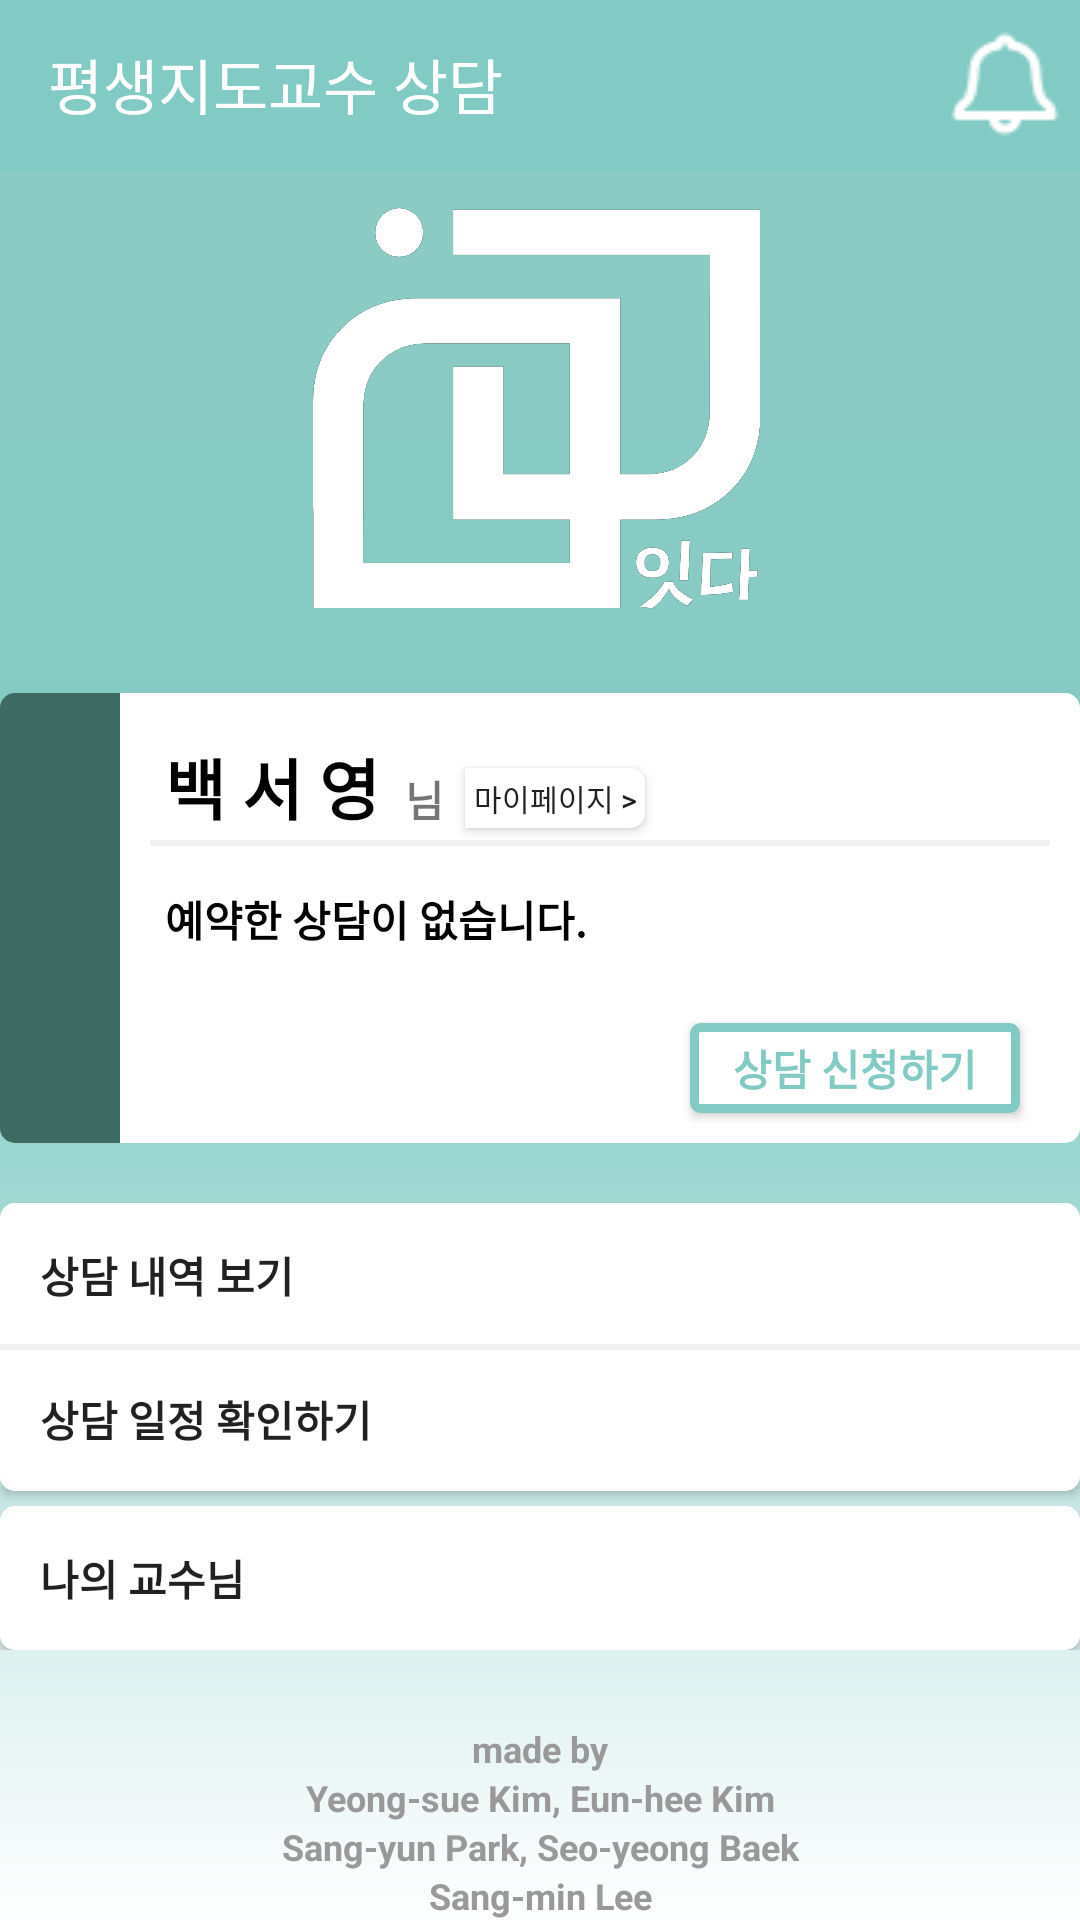

Icons on this 1080px×1920px Android screen, each with its box as {"left": x1, "top": y1, "right": x2, "bottom": y2}:
alert: {"left": 952, "top": 33, "right": 1058, "bottom": 135}
